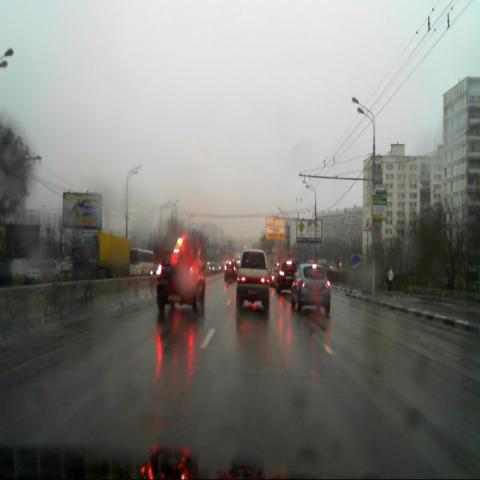4_2_2: (350, 255, 362, 275)
